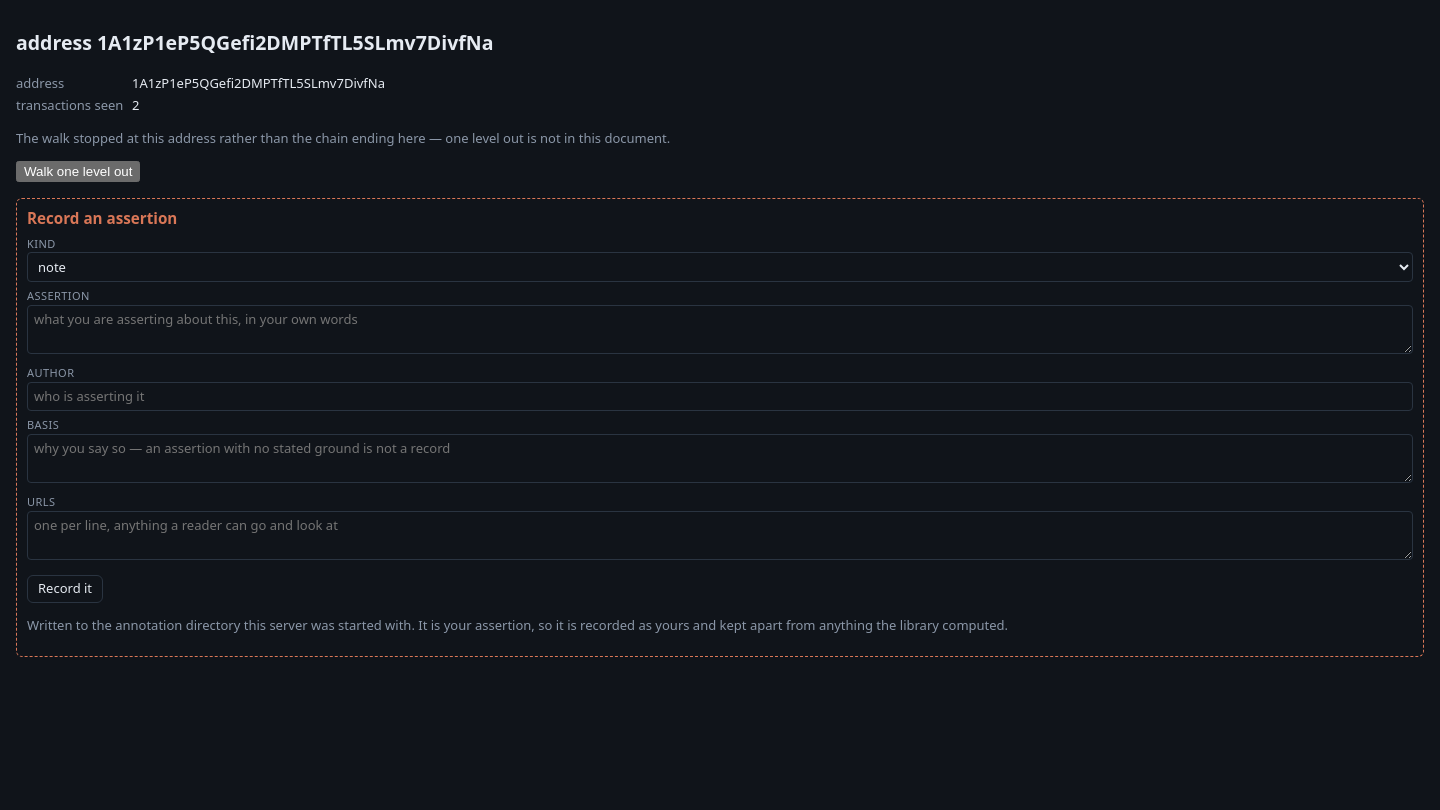
Test: walking on from a node › shows the server's refusal rather than failing quietly
Click the button "Walk one level out": {"x": 78, "y": 172} [16,161,140,182]
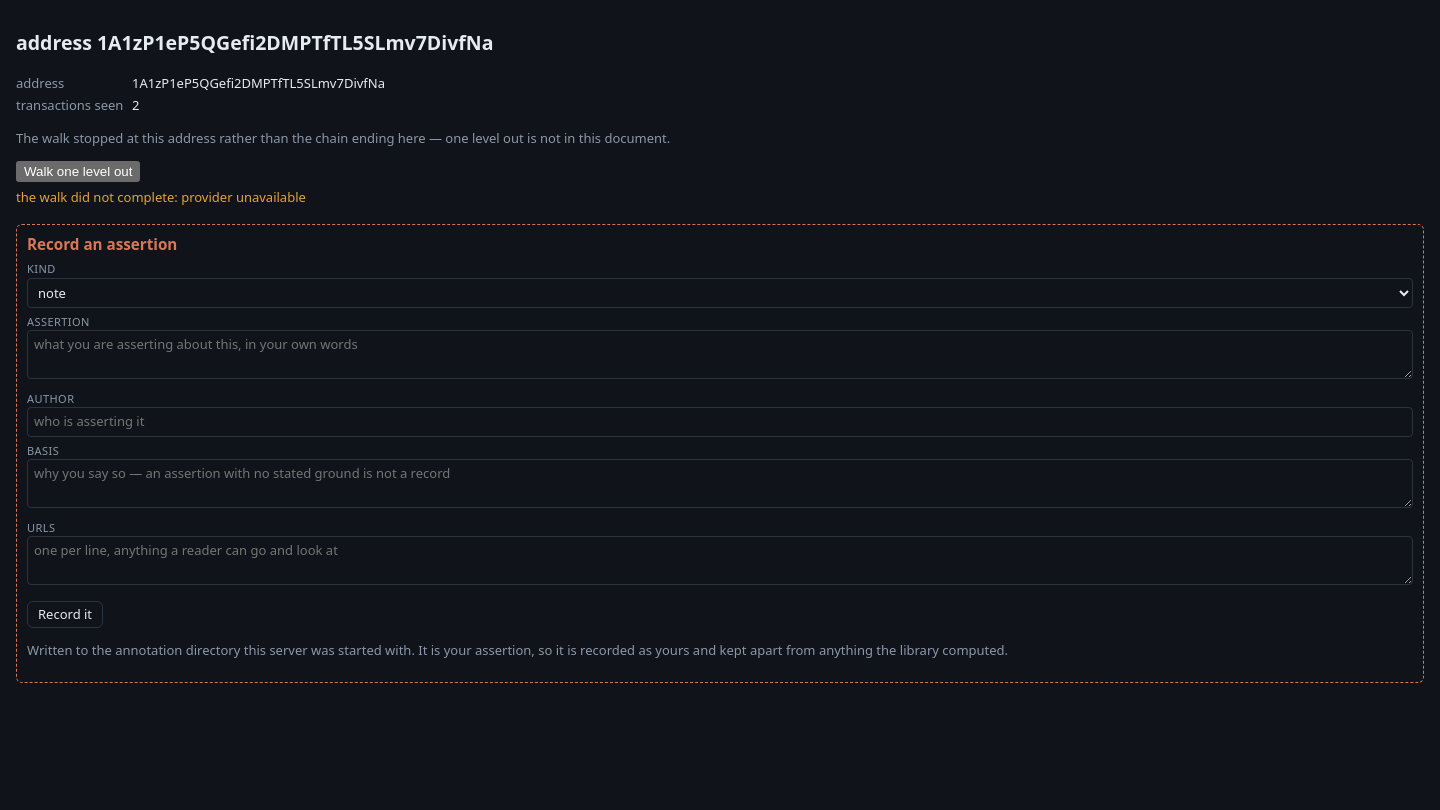
Result: the text "the walk did not complete: provider unavailable" is shown at [16,188,306,206]
